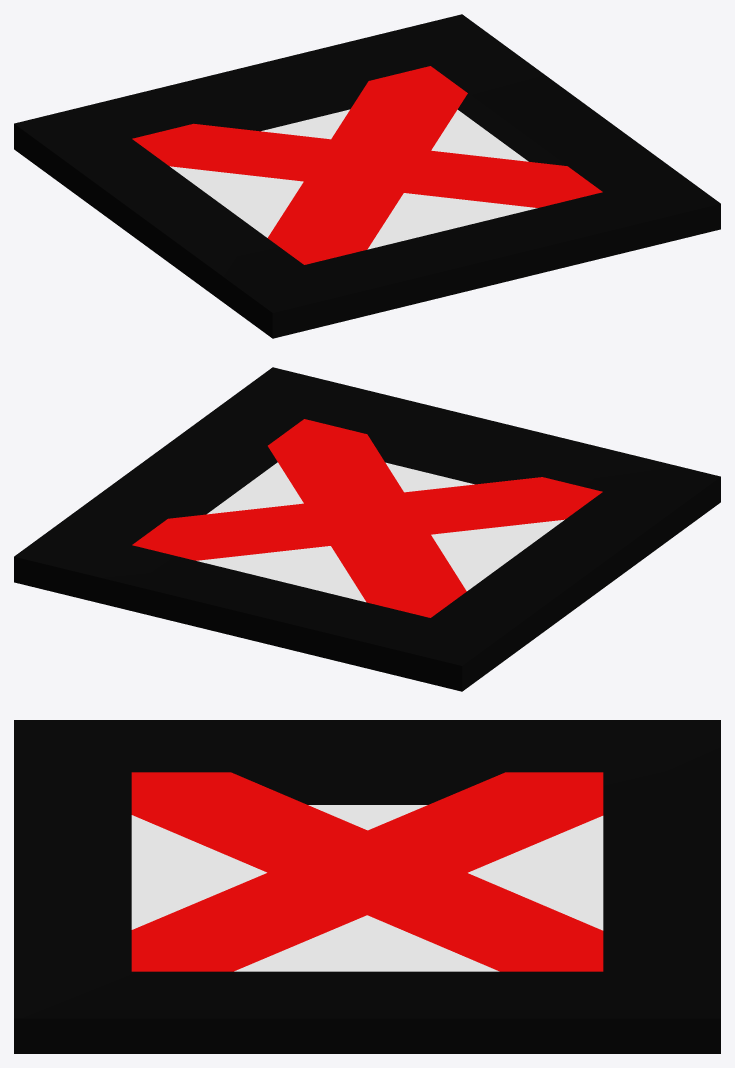
File: yep.fbx
3 renders of one model, top to bottom at view 1: azimuth 30°, elevation 25°; view 2: azimuth 150°, elevation 25°; view 3: azimuth 270°, elevation 25°, orthographic. The views are drawn at different scales.
Visible parts, largest first — view 1: Объект_Полигон, Объект_Плоскость_1, Объект_Плоскость; view 2: Объект_Полигон, Объект_Плоскость_1, Объект_Плоскость; view 3: Объект_Полигон, Объект_Плоскость_1, Объект_Плоскость.
Part boxes in pixels (left/top/right/bottom): Объект_Полигон: left=14, top=14, right=720, bottom=338; Объект_Плоскость_1: left=132, top=123, right=602, bottom=207; Объект_Плоскость: left=268, top=66, right=467, bottom=264; Объект_Полигон: left=14, top=367, right=720, bottom=691; Объект_Плоскость_1: left=268, top=419, right=466, bottom=617; Объект_Плоскость: left=132, top=477, right=602, bottom=560; Объект_Полигон: left=14, top=720, right=720, bottom=1053; Объект_Плоскость_1: left=131, top=772, right=603, bottom=971; Объект_Плоскость: left=131, top=772, right=603, bottom=971.
Size of the model in its own units: 2 by 0.1098 by 2.
